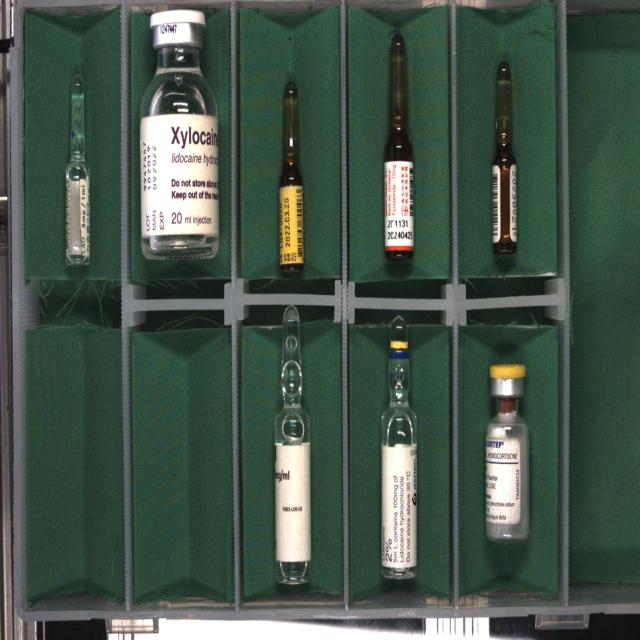Vials: (140, 10, 219, 259), (486, 364, 529, 541)
